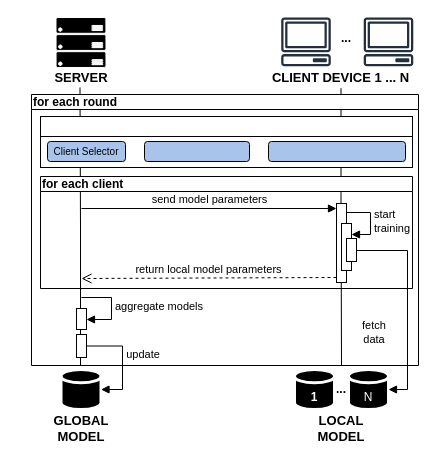
Image size: 436x464. Some labels were removed from this diagram. The shapes that lost their labels are listed below. From the top down, each one's centre as x and y in pixels, then its label:
At point 226,126: "Self-Adaptation Component".
At point 197,151: "Message Compressor".
At point 337,151: "Heterogeneous Data Handler".
